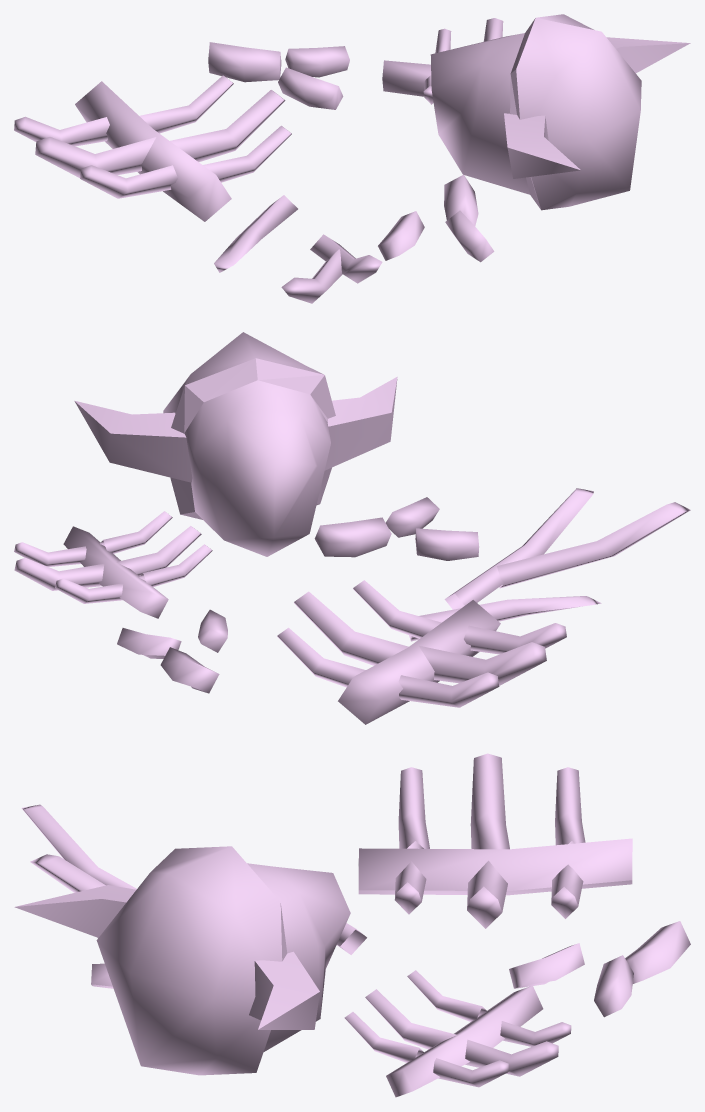
The picture shows the model from 3 angles, top to bottom: view 1: azimuth 30°, elevation 25°; view 2: azimuth 150°, elevation 25°; view 3: azimuth 270°, elevation 25°; orthographic projection. The views are drawn at different scales.
Visible parts, largest first — view 1: Object49; view 2: Object49; view 3: Object49.
Part boxes in pixels (box(x1,y1,x2,y2)): Object49: box(14, 14, 690, 303); Object49: box(14, 332, 690, 724); Object49: box(14, 753, 690, 1097).
Bounding box in the file's own units: 118 × 39.84 × 105.
